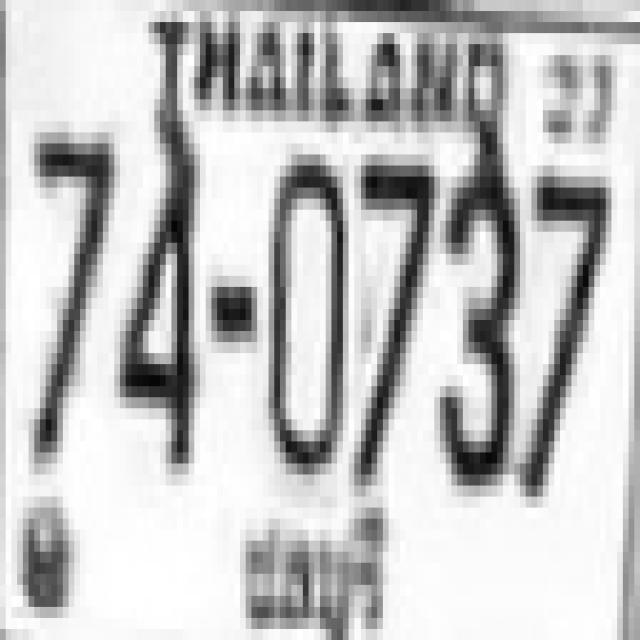0: (263, 144, 343, 464)
3: (434, 143, 514, 486)
4: (114, 110, 194, 463)
7: (26, 121, 111, 452), (520, 165, 606, 486), (352, 154, 432, 474)
CBI: (229, 497, 386, 639)
